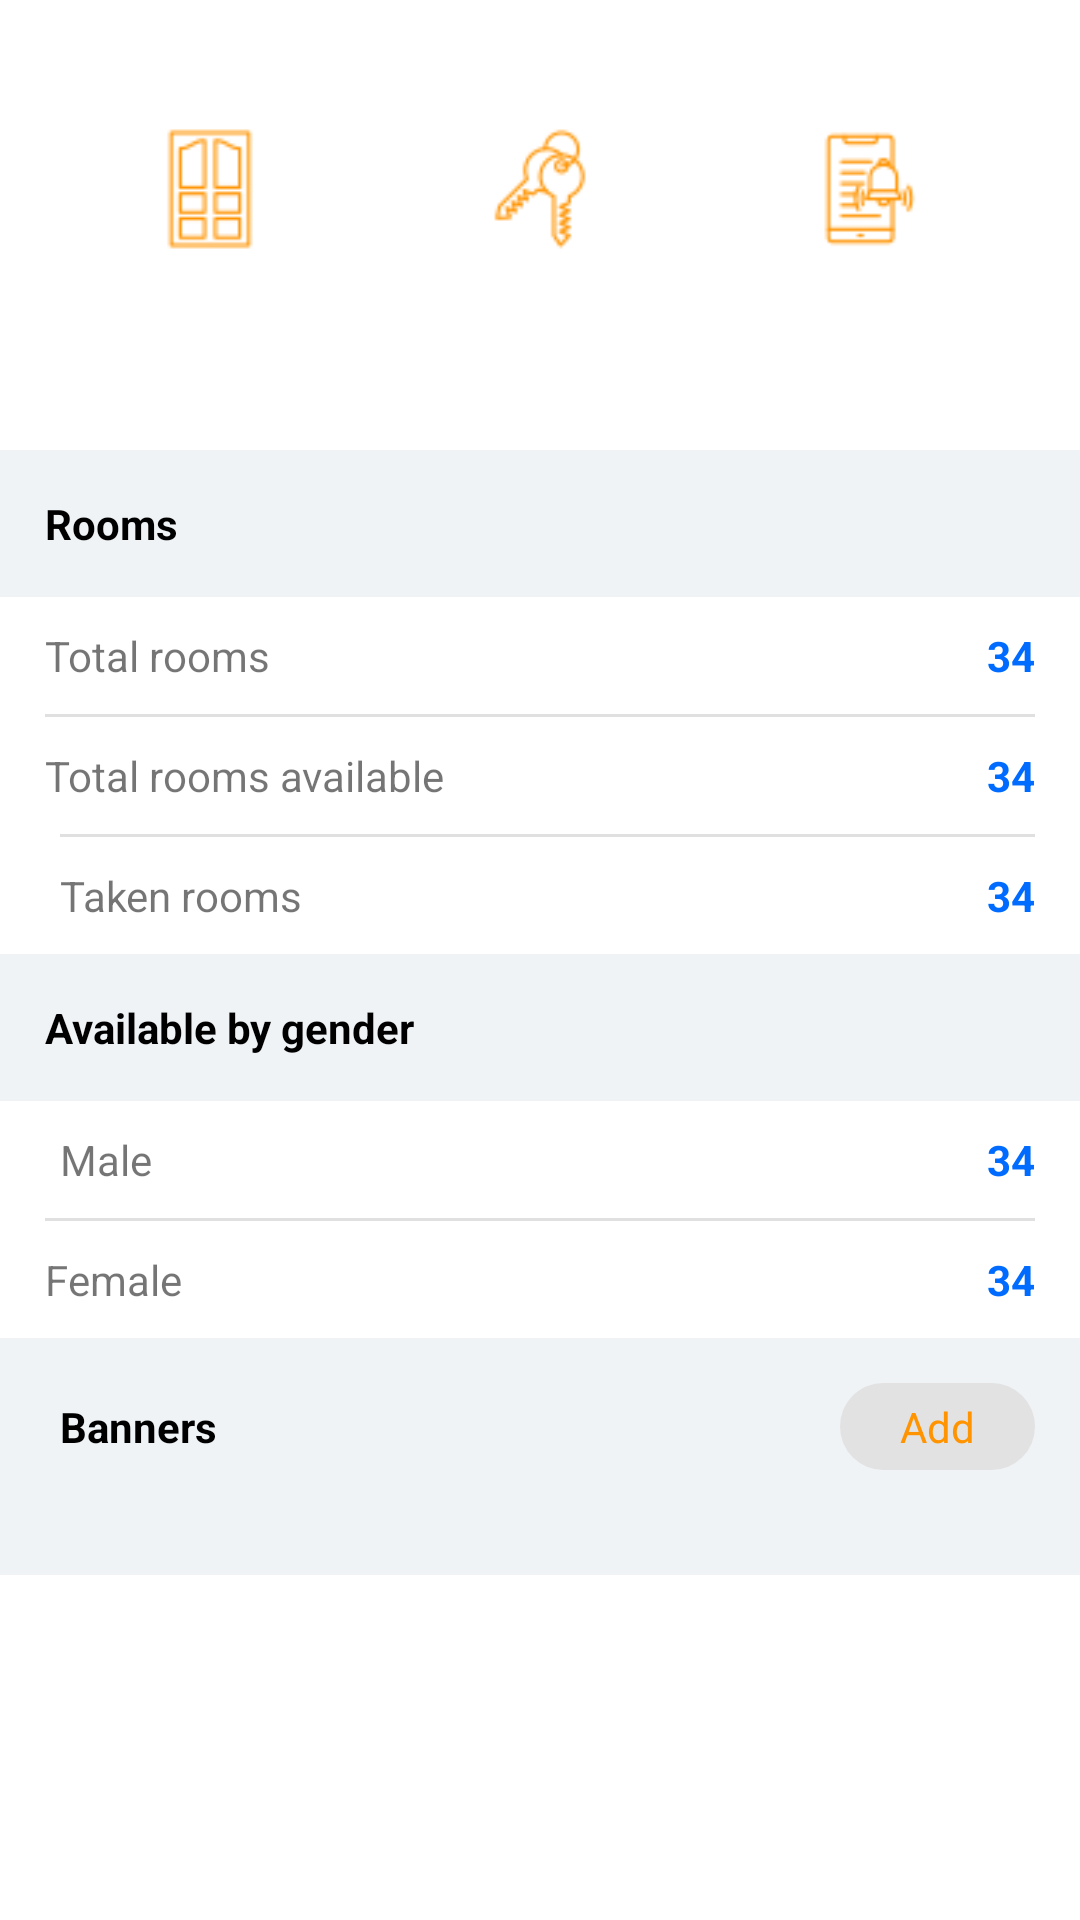

Screen size 1080px x 1920px. Icon name, then its box in pixels as box(x1, y1, x2, y2):
check-in icon: box(494, 129, 586, 249)
notification: box(824, 132, 915, 246)
room icon: box(167, 129, 253, 249)
